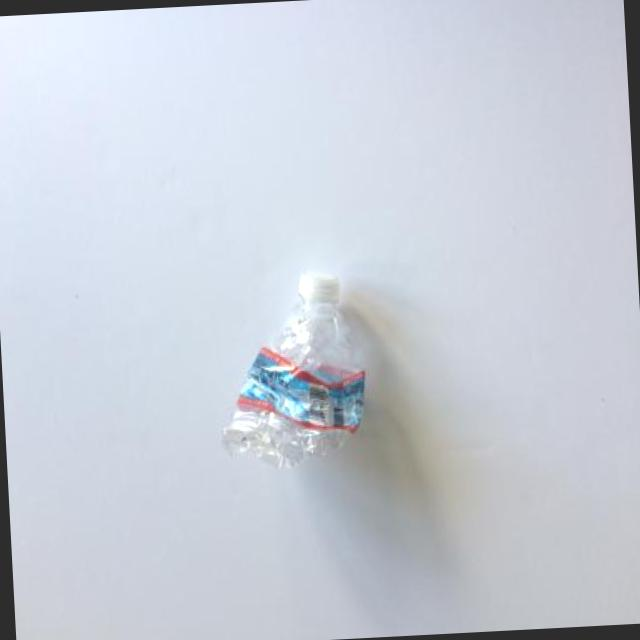Recycle: (216, 256, 403, 474)
